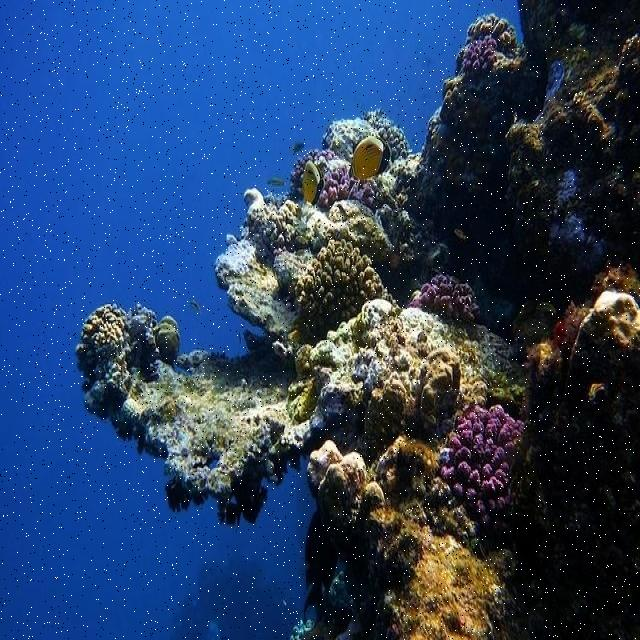fish: (349, 135, 390, 177), (303, 161, 324, 203)
reefs: (440, 405, 524, 528), (290, 238, 384, 331), (287, 149, 375, 205), (412, 275, 481, 323)
